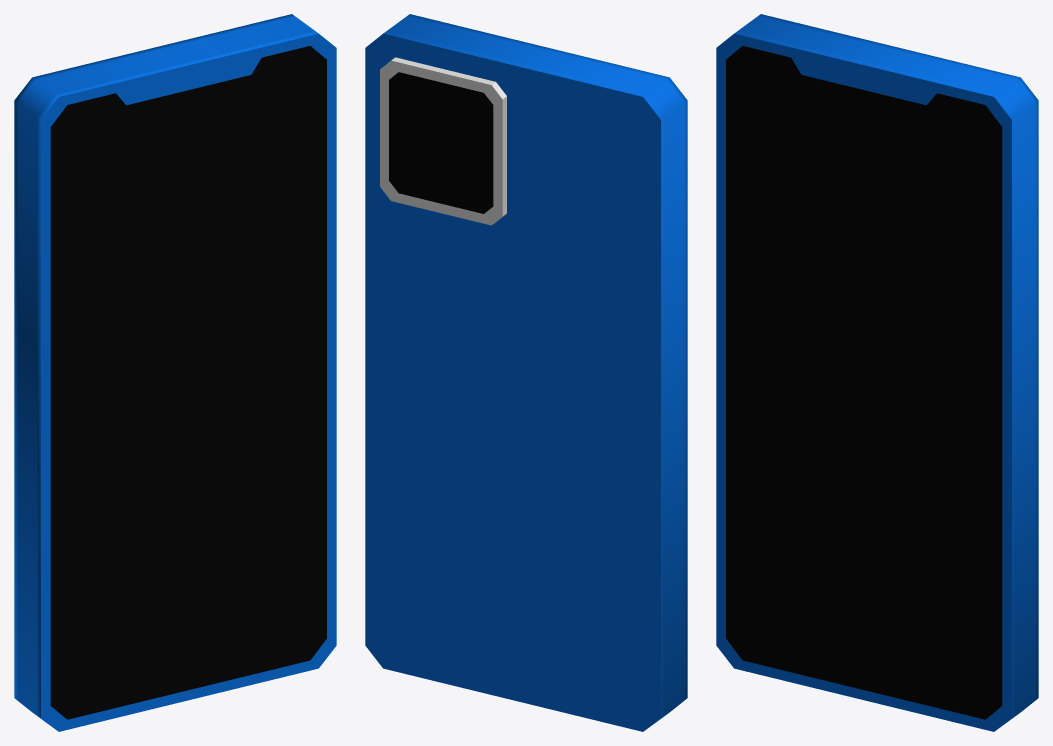
The model's file is phone_6.fbx.
3 renders of one model, left to right at view 1: azimuth 30°, elevation 25°; view 2: azimuth 150°, elevation 25°; view 3: azimuth 330°, elevation 25°, orthographic.
Parts seen in each view (by area): view 1: Cube; view 2: Cube; view 3: Cube.
Boxes of the visible parts, <box> form: Cube: <box>14,14,336,731</box>; Cube: <box>365,14,687,731</box>; Cube: <box>716,14,1038,731</box>.
Size of the model in its own units: 97.44 by 200 by 17.81.
